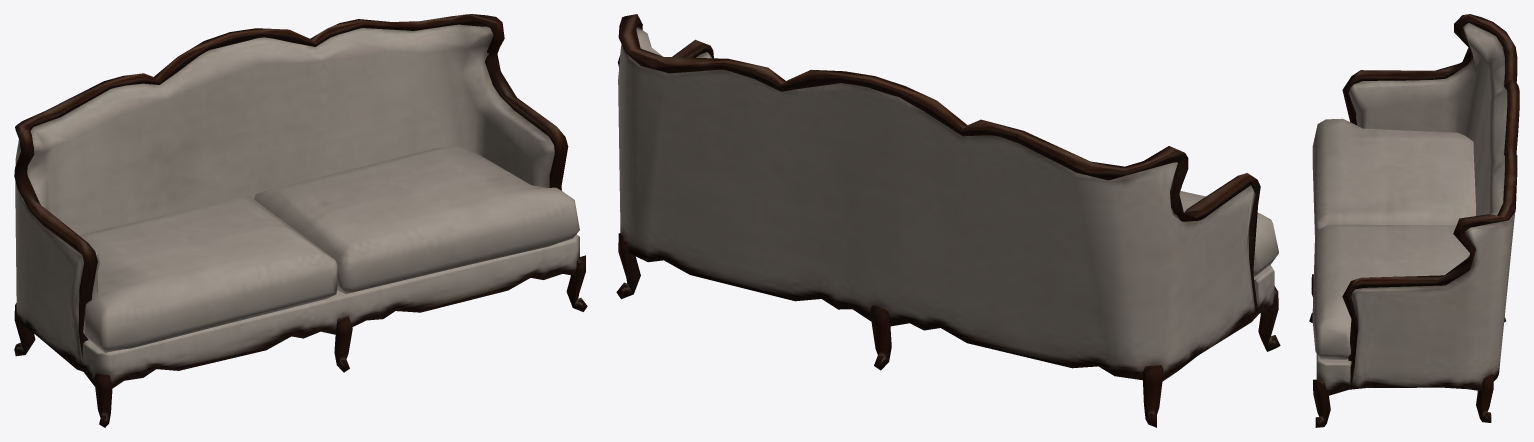
The model's file is sofa_lod1.glb.
The picture shows the model from 3 angles, left to right: view 1: azimuth 30°, elevation 25°; view 2: azimuth 150°, elevation 25°; view 3: azimuth 270°, elevation 25°; orthographic projection. The views are drawn at different scales.
Size of the model in its own units: 1.57 by 0.7831 by 0.6575.
1 material, 1 textured.
